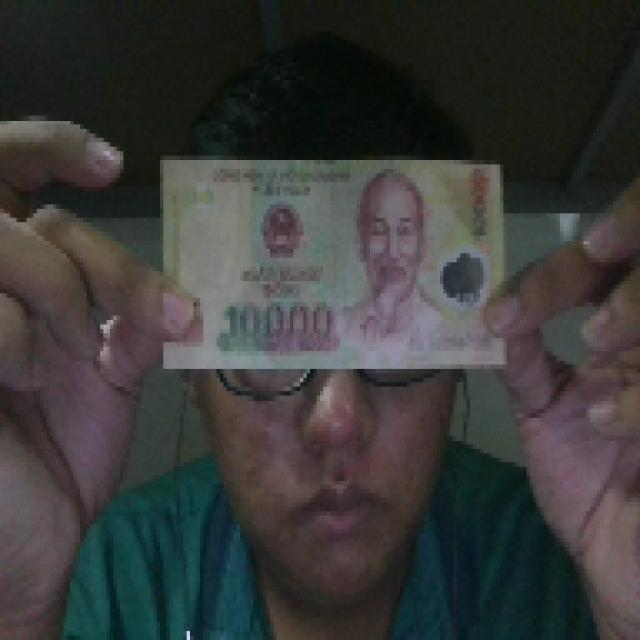10 000 VND: (157, 151, 513, 378)
